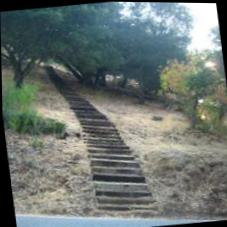Bench: (79, 119, 156, 216)
